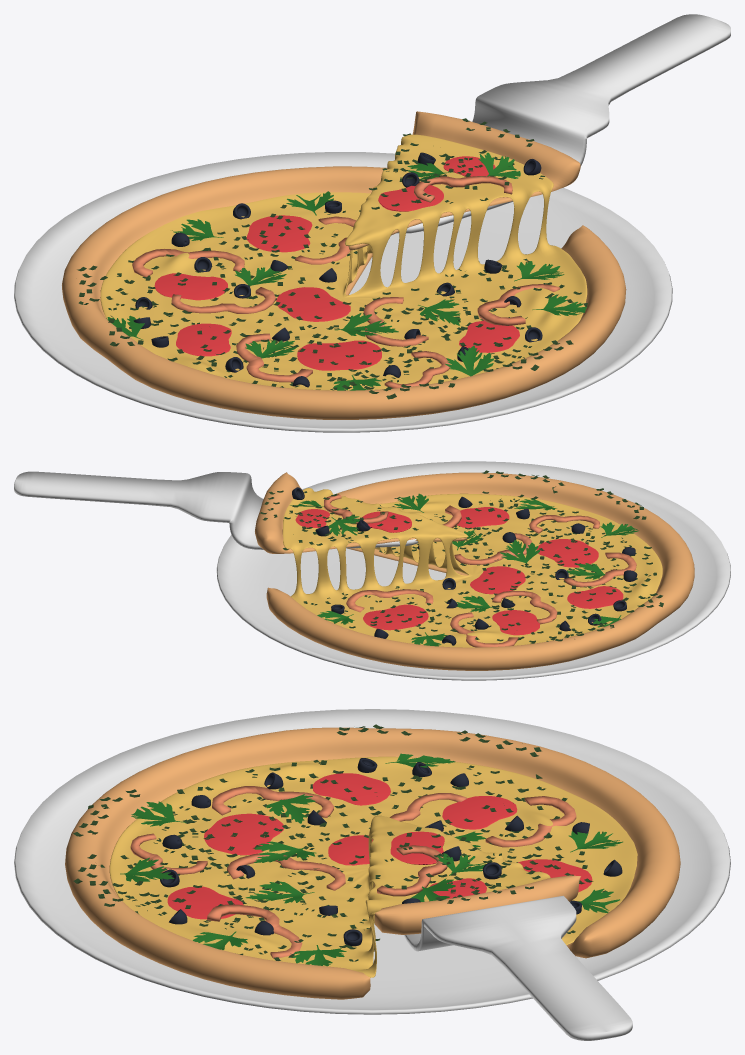
File: pizza.fbx
The picture shows the model from 3 angles, top to bottom: view 1: azimuth 30°, elevation 25°; view 2: azimuth 150°, elevation 25°; view 3: azimuth 270°, elevation 25°; orthographic projection. The views are drawn at different scales.
Parts seen in each view (by area): view 1: cheese, plate, dough, metal, tomato.003, tomato.006, tomato.001, tomato.005, tomato.004, tomato.002, pepper.002, tomato.007 (+9 smaller); view 2: cheese, plate, dough, metal, tomato.003, tomato.006, tomato.001, tomato.005, tomato.004, tomato.002, pepper.002, pepper.004 (+10 smaller); view 3: cheese, plate, dough, metal, tomato.003, tomato.004, tomato.005, tomato.002, pepper.003, pepper.001, pepper.002, pepper (+15 smaller).
Part boxes in pixels (x1=…): cheese: x1=100, y1=134, x2=587, y2=390; plate: x1=14, y1=152, x2=672, y2=432; dough: x1=62, y1=111, x2=626, y2=419; metal: x1=397, y1=14, x2=730, y2=233; tomato.003: x1=297, y1=340, x2=381, y2=370; tomato.006: x1=246, y1=215, x2=312, y2=252; tomato.001: x1=276, y1=287, x2=350, y2=321; tomato.005: x1=154, y1=273, x2=227, y2=300; tomato.004: x1=176, y1=323, x2=231, y2=356; tomato.002: x1=459, y1=320, x2=519, y2=352; pepper.002: x1=236, y1=333, x2=312, y2=382; tomato.007: x1=378, y1=185, x2=443, y2=211; cheese: x1=282, y1=488, x2=662, y2=647; plate: x1=216, y1=461, x2=730, y2=680; dough: x1=255, y1=472, x2=694, y2=670; metal: x1=14, y1=471, x2=418, y2=549; tomato.003: x1=536, y1=539, x2=598, y2=567; tomato.006: x1=363, y1=604, x2=428, y2=630; tomato.001: x1=470, y1=566, x2=525, y2=594; tomato.005: x1=492, y1=610, x2=539, y2=635; tomato.004: x1=567, y1=586, x2=623, y2=608; tomato.002: x1=457, y1=507, x2=509, y2=528; pepper.002: x1=564, y1=552, x2=636, y2=587; pepper.004: x1=346, y1=589, x2=433, y2=612; cheese: x1=109, y1=756, x2=637, y2=977; plate: x1=14, y1=709, x2=730, y2=1014; dough: x1=65, y1=727, x2=680, y2=999; metal: x1=403, y1=895, x2=632, y2=1040; tomato.003: x1=204, y1=813, x2=283, y2=855; tomato.004: x1=312, y1=773, x2=390, y2=805; tomato.005: x1=442, y1=796, x2=517, y2=829; tomato.002: x1=167, y1=886, x2=243, y2=919; pepper.003: x1=485, y1=796, x2=576, y2=847; pepper.001: x1=207, y1=904, x2=302, y2=958; pepper.002: x1=212, y1=786, x2=333, y2=817; pepper: x1=227, y1=853, x2=345, y2=890.
Bounding box in the file's own units: 1523 × 175 × 1130.
